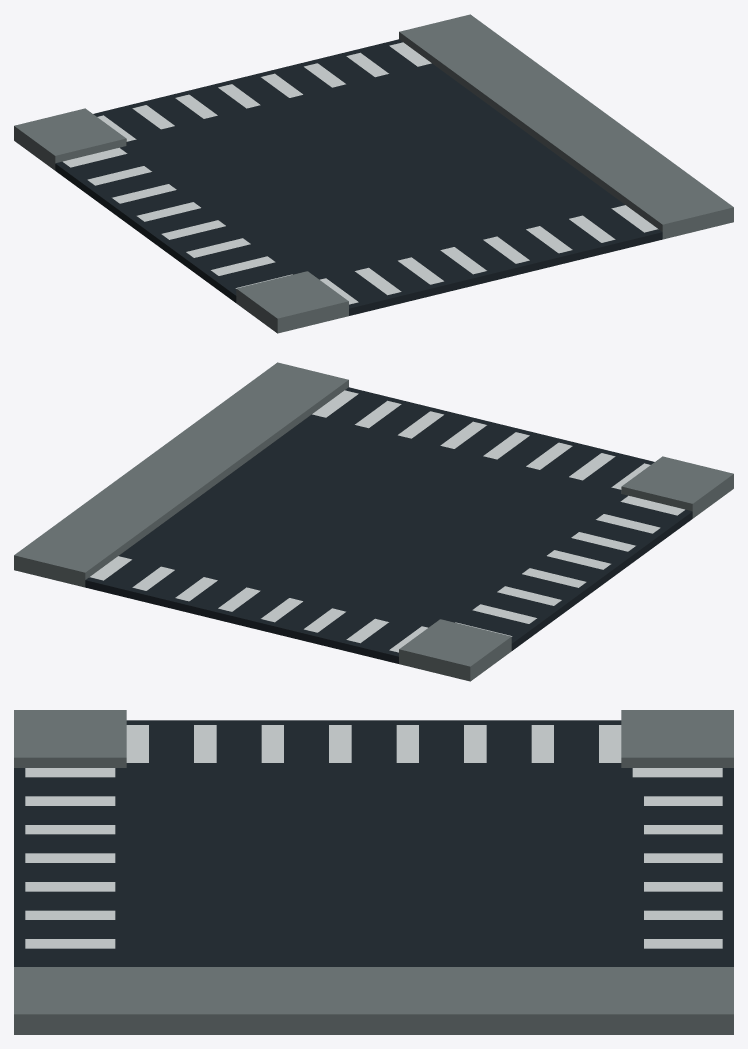
File: RoadT270.obj
The picture shows the model from 3 angles, top to bottom: view 1: azimuth 30°, elevation 25°; view 2: azimuth 150°, elevation 25°; view 3: azimuth 270°, elevation 25°; orthographic projection. The views are drawn at different scales.
Size of the model in its own units: 6.4 by 0.2 by 6.4.
Materials: 1 (1 with a texture image).
